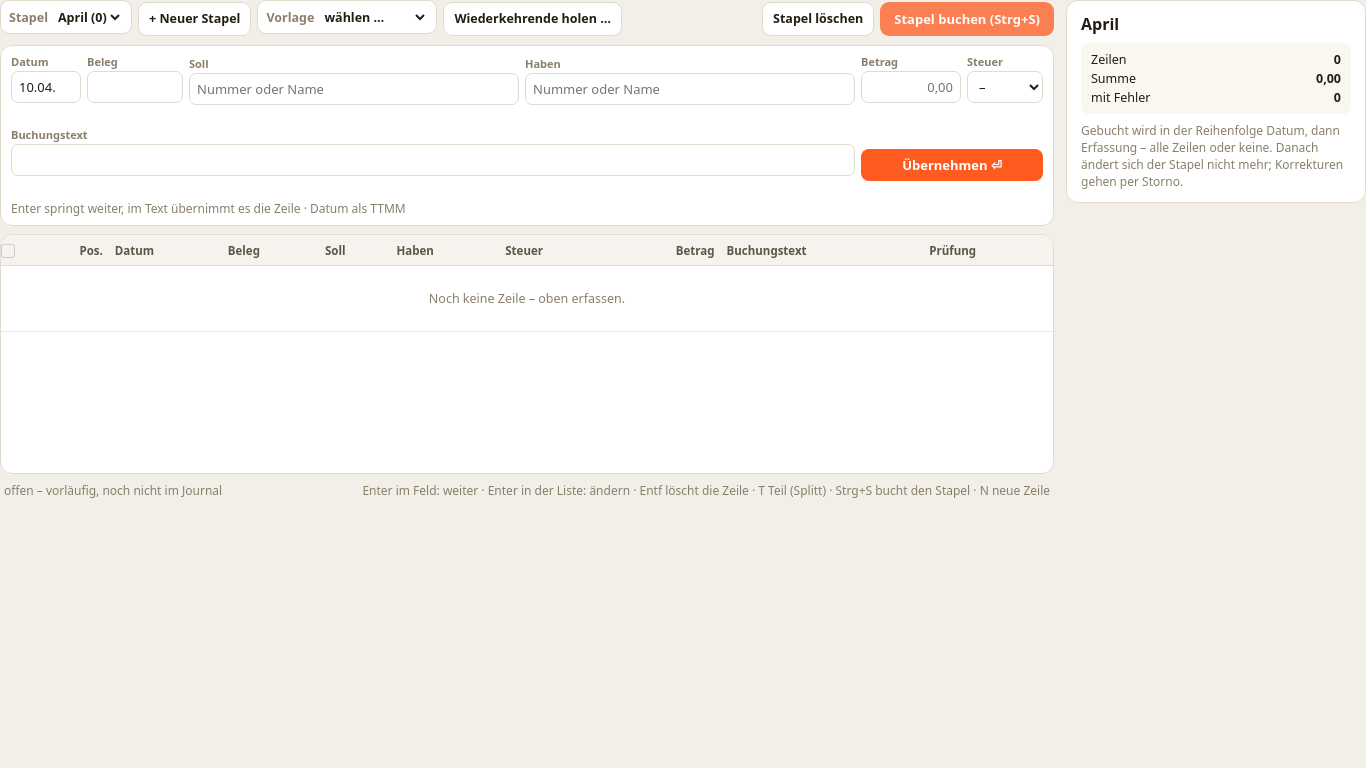
Test: Im Stapel › Als Vorlage: Fenster mit den Werten der Zeile
Type "4530" into the dropdown named "Soll-Konto" at (354, 89), box [189,73,519,105]
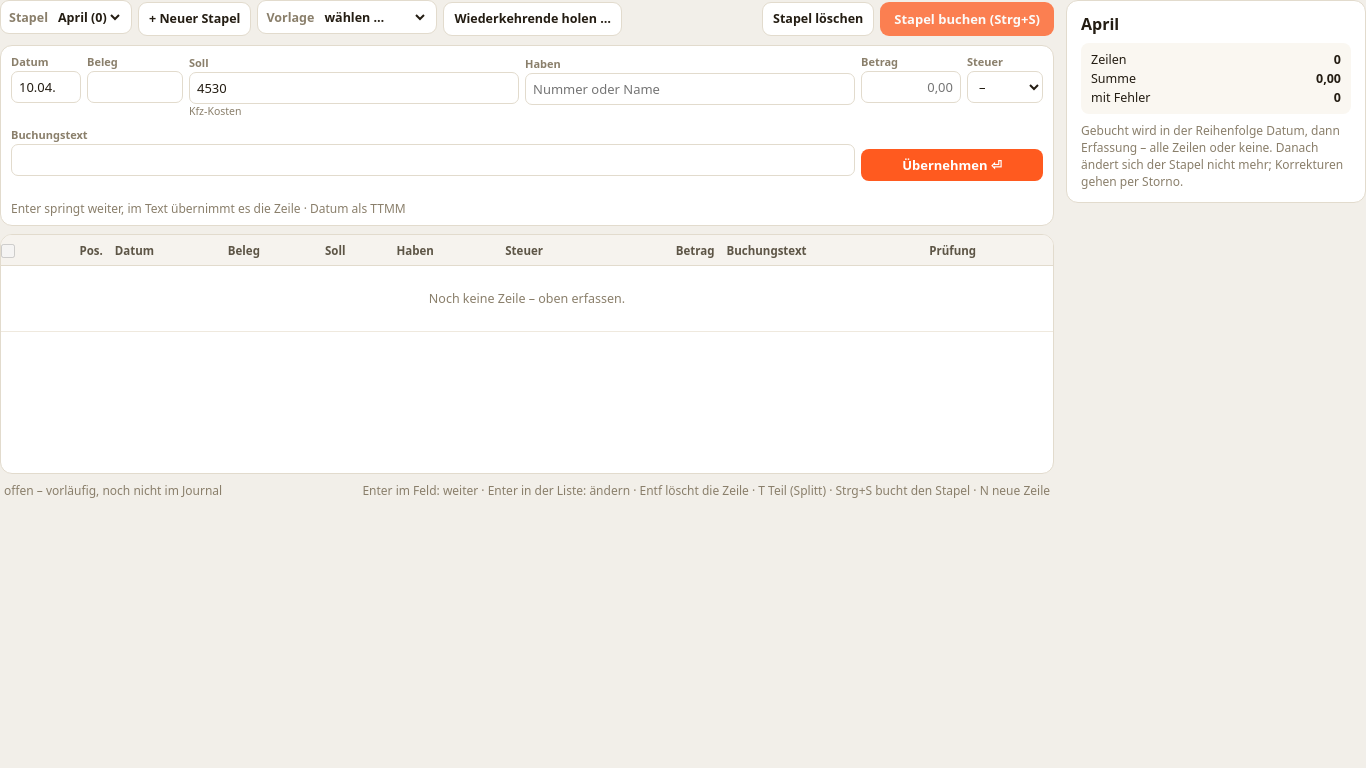
Type "1200" into the dropdown named "Haben-Konto" at (690, 89), box [525,73,855,105]
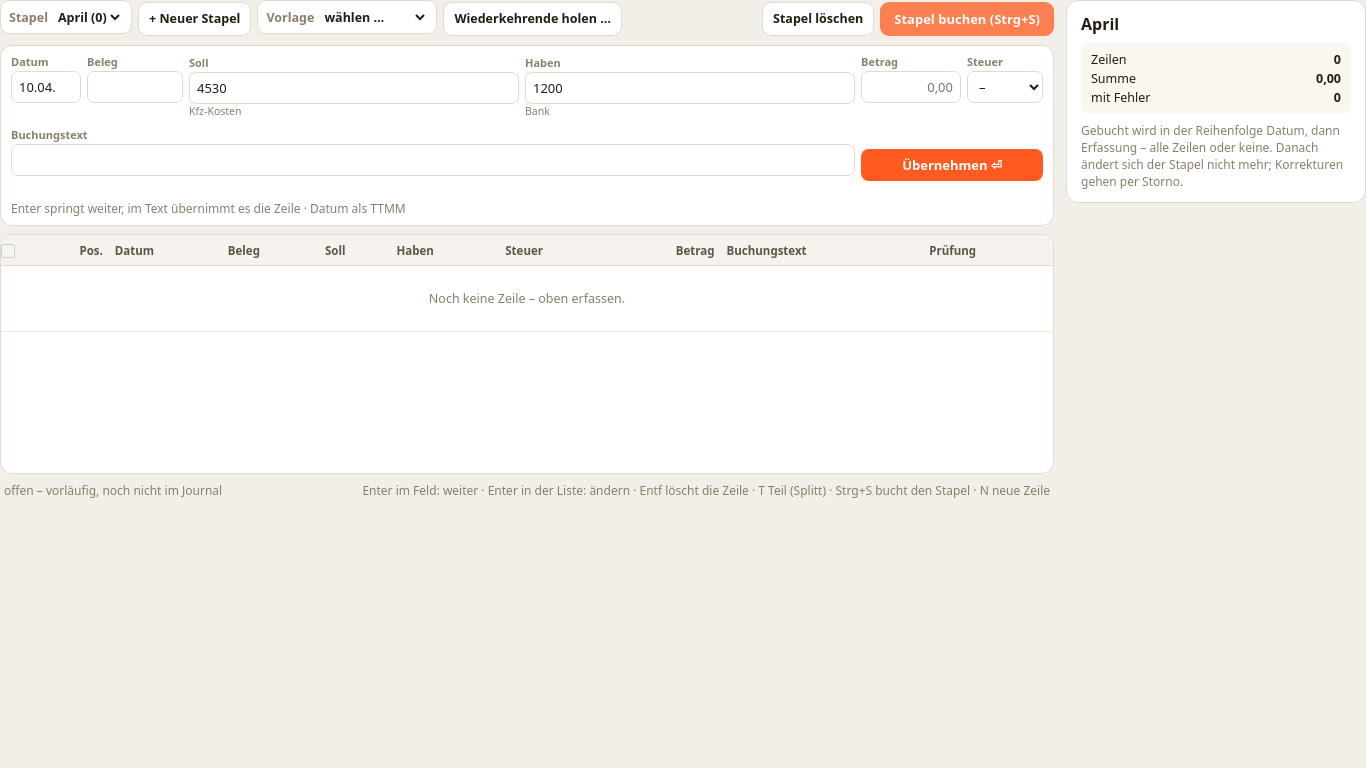
Type "Parken" into the field labelled "Buchungstext" at (433, 160), box [11,144,855,176]
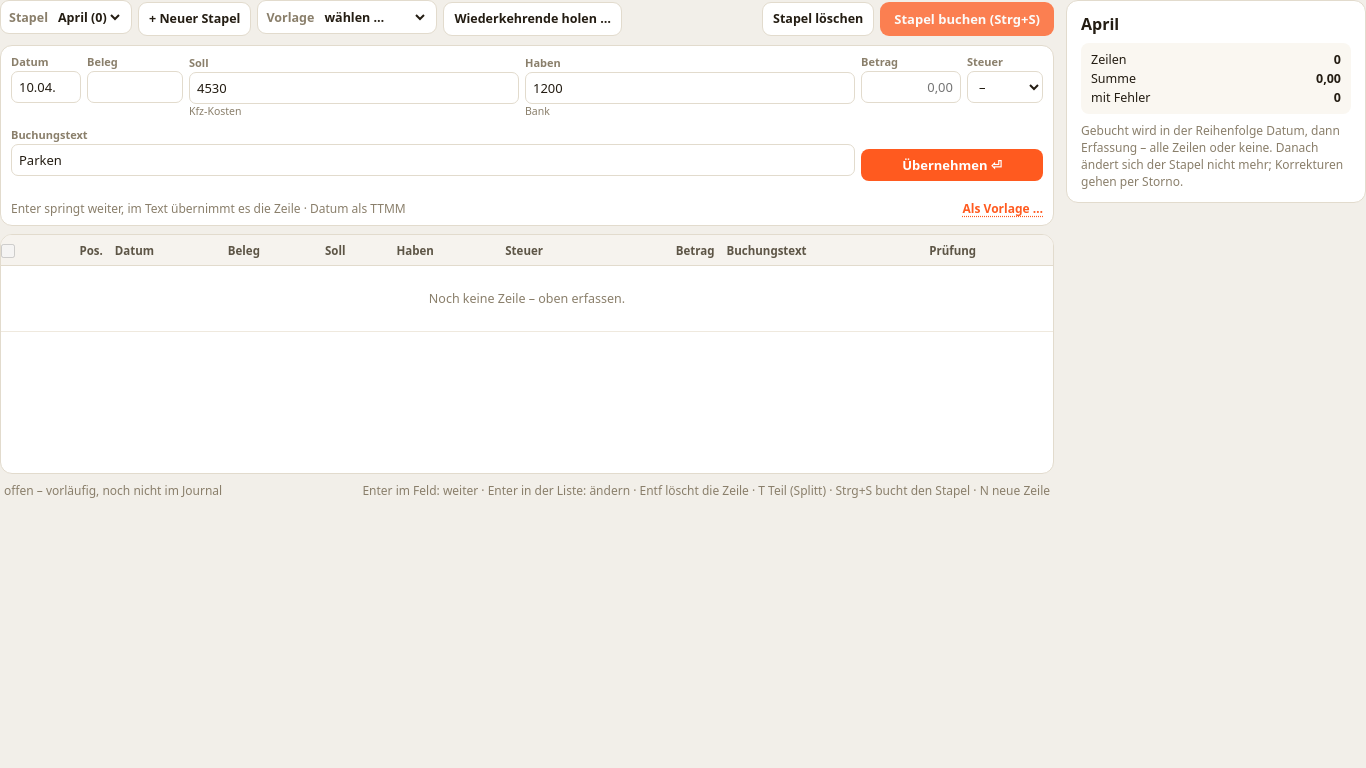
Click the button "Als Vorlage …" at (1003, 208), box [963,200,1043,217]
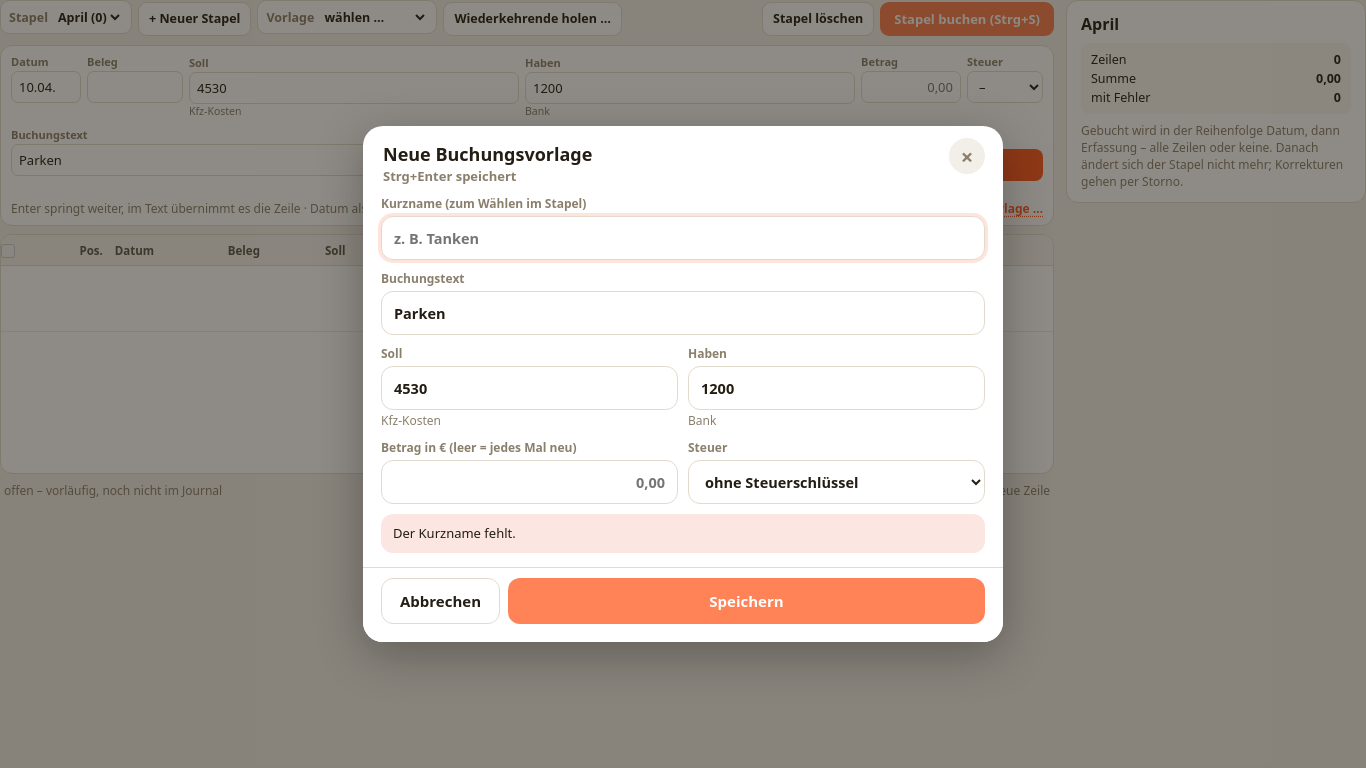
Now the heading "Neue Buchungsvorlage" is shown, box [383,142,592,166]
Now the field showing "Parken" is shown, box [381,291,985,335]
